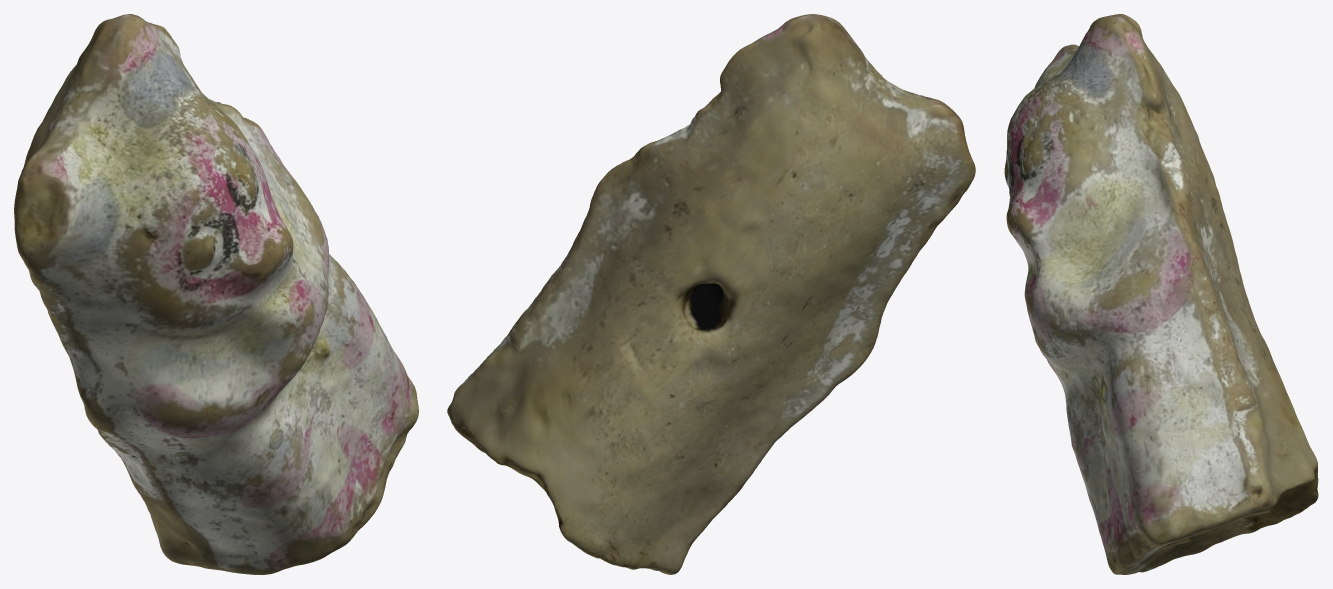
3 renders of one model, left to right at view 1: azimuth 30°, elevation 25°; view 2: azimuth 150°, elevation 25°; view 3: azimuth 270°, elevation 25°, orthographic. The views are drawn at different scales.
Size of the model in its own units: 0.54 by 0.6683 by 0.3858.
1 material, 1 textured.
